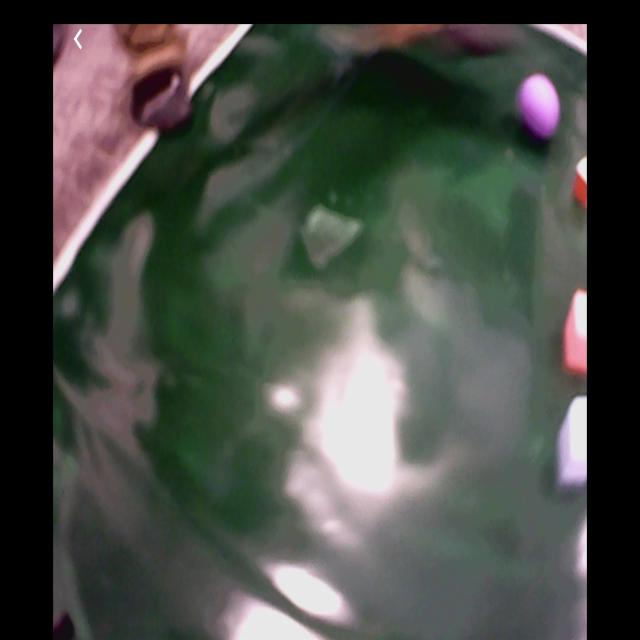ball: (520, 75, 561, 136)
